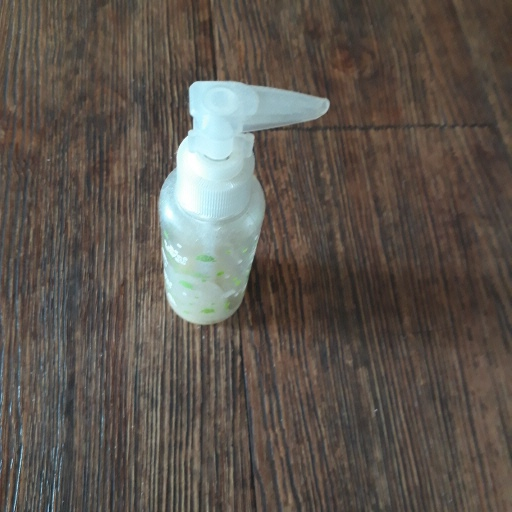Plastic_3: (153, 80, 330, 329)
